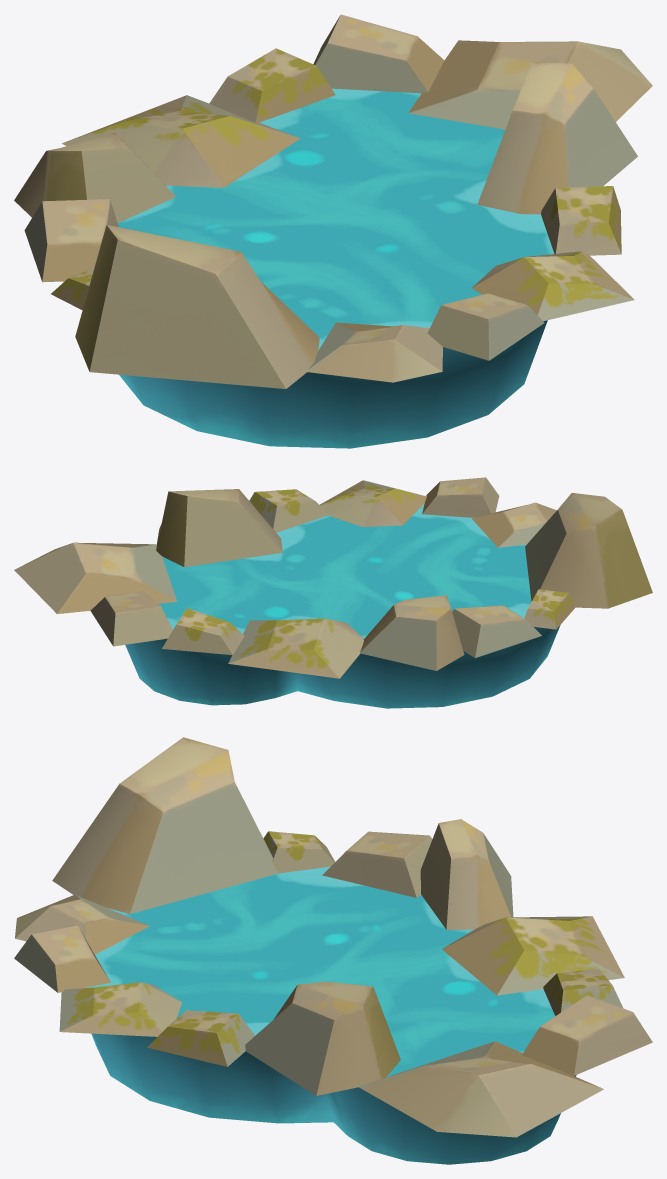
Rendered from wateringhole.fbx.
3 renders of one model, top to bottom at view 1: azimuth 30°, elevation 25°; view 2: azimuth 150°, elevation 25°; view 3: azimuth 270°, elevation 25°, orthographic. The views are drawn at different scales.
Parts seen in each view (by area): view 1: watering_hole; view 2: watering_hole; view 3: watering_hole.
Boxes of the visible parts, box(x1,y1,x2,y2) form: watering_hole: box(14, 14, 652, 448); watering_hole: box(14, 477, 652, 708); watering_hole: box(14, 737, 652, 1164).
Bounding box in the file's own units: 3.02 × 0.89 × 2.61.
1 material, 1 textured.
